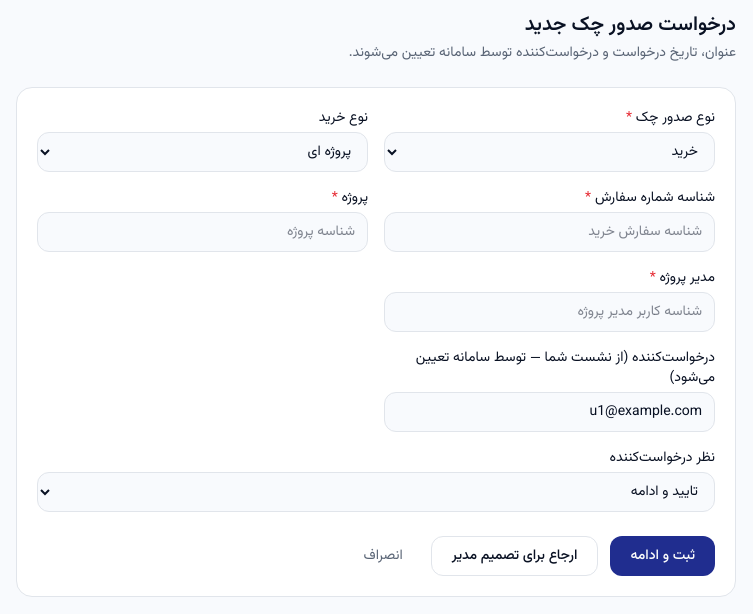
Test: Phase F1 — CheckRequestFormView (conditional fields, create, route) › HIDES the order reference for تنخواه (the source hides it there too)
Select "تنخواه" in the dropdown with test id "financial-check-issue-type" at (550, 152), box [384, 132, 715, 172]
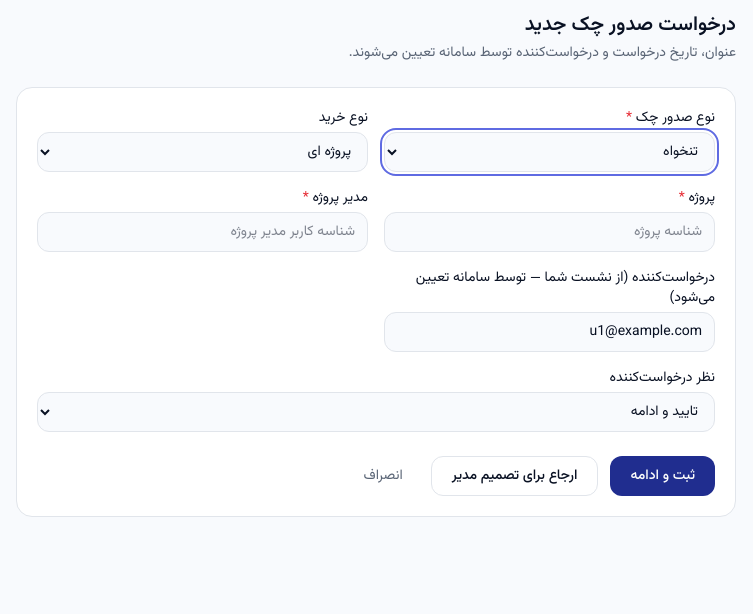
Expected: the dropdown with test id "financial-check-purchase-type" is shown, [37, 132, 368, 172]
Expected: the field with test id "financial-check-order-reference" is gone
